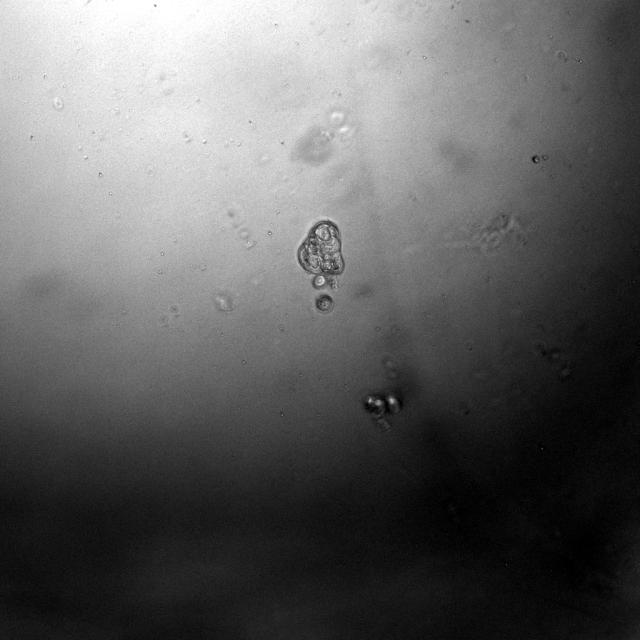organoid: (298, 220, 344, 289), (364, 393, 402, 435), (315, 294, 334, 313)
